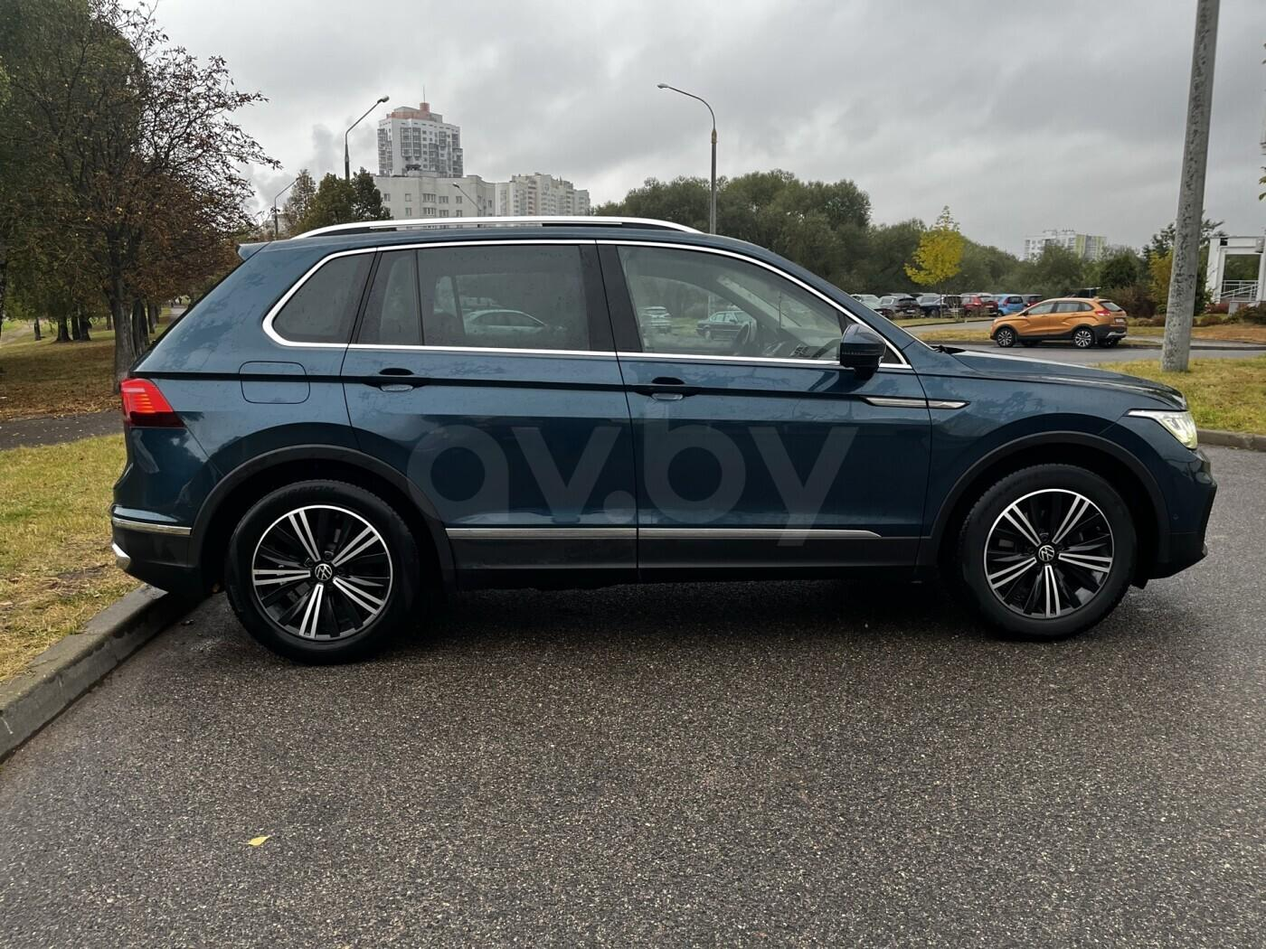Tiguan_2020-2024: (109, 217, 1221, 664)
